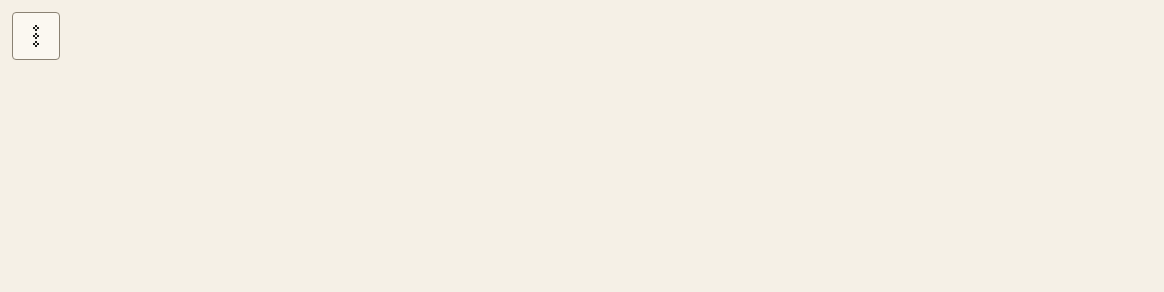
it: CardMenu › opens on its first item, Delete last, in the danger colour after a divider
Click the button named "More for Coast run".
click(36, 36)  # box left=12, top=12, right=60, bottom=60
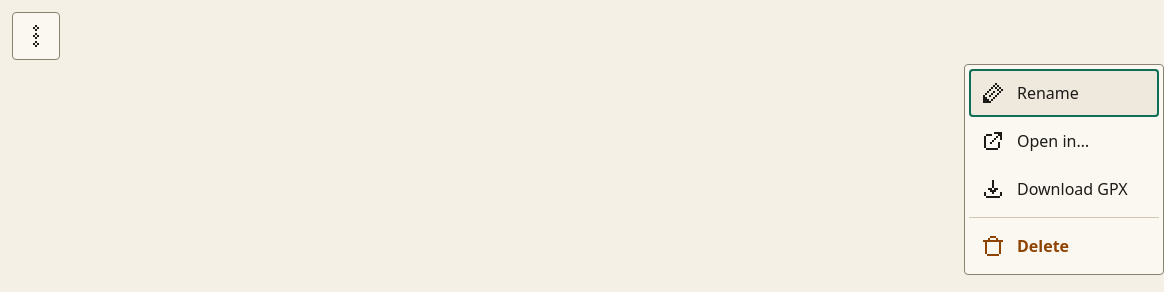
Now the menu items read "Rename", "Open in…", "Download GPX", "Delete", in this order, box left=969, top=69, right=1159, bottom=117; left=969, top=117, right=1159, bottom=165; left=969, top=165, right=1159, bottom=213; left=969, top=222, right=1159, bottom=270
